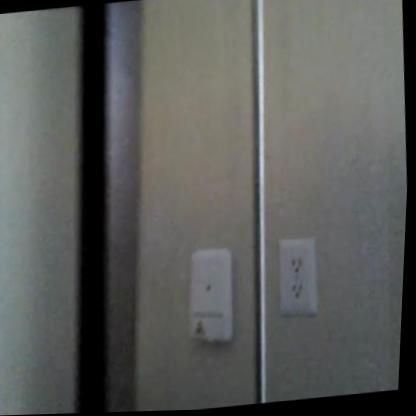OUTLET: (274, 234, 323, 320)
